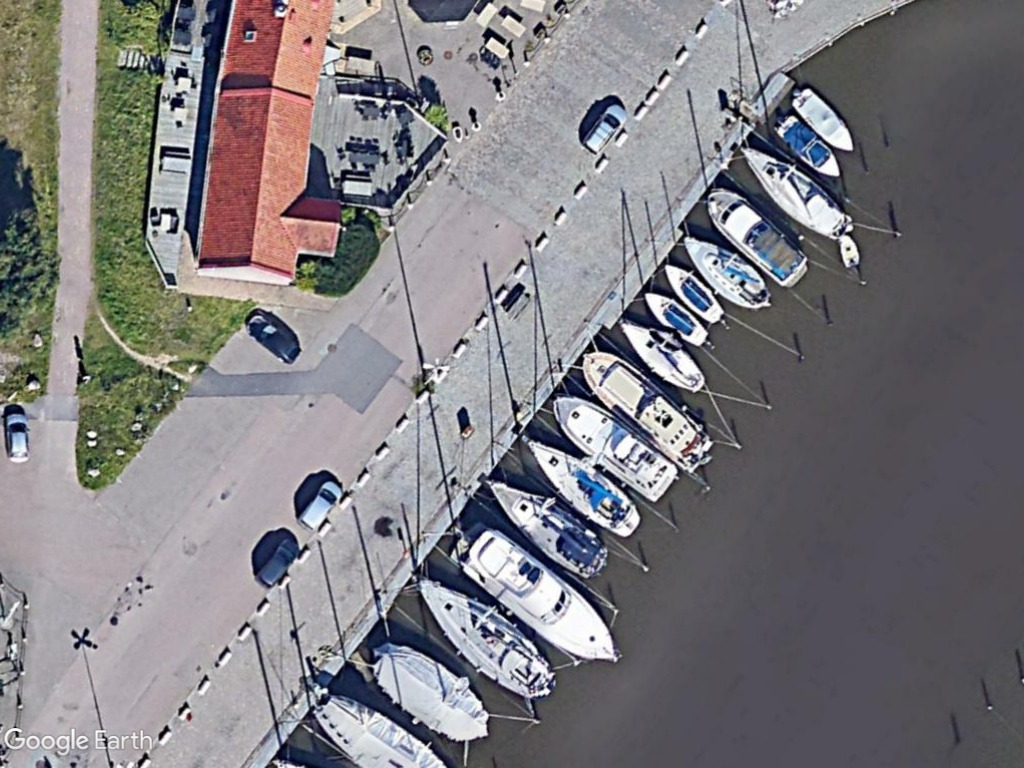boat: (458, 528, 622, 670), (412, 572, 561, 701), (579, 350, 718, 478), (549, 389, 681, 506), (479, 472, 612, 580), (366, 638, 491, 745), (522, 435, 644, 541), (736, 143, 858, 242), (701, 184, 811, 290), (611, 313, 709, 395), (679, 231, 773, 314), (787, 83, 857, 155), (771, 113, 844, 181), (660, 259, 727, 327), (638, 289, 710, 351), (835, 228, 863, 273)
car: (2, 407, 32, 466)
van: (294, 476, 346, 536), (580, 99, 631, 159), (251, 534, 301, 592)
